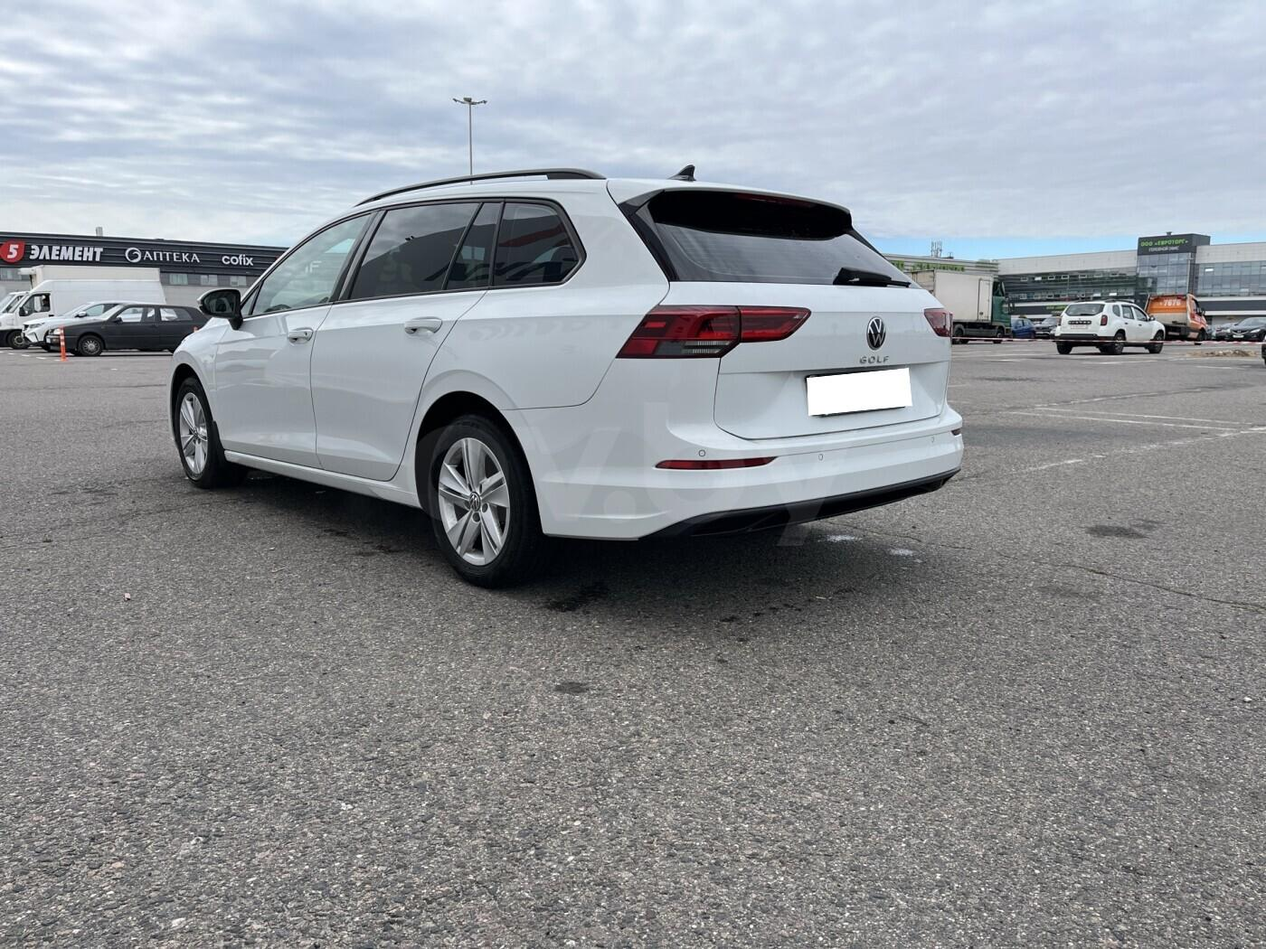Golf_2019: (169, 169, 966, 589)
